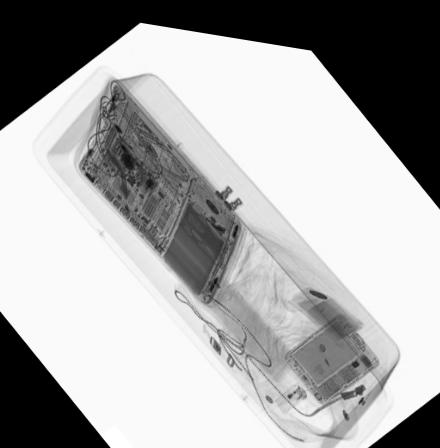Lighter: (271, 370, 308, 405)
